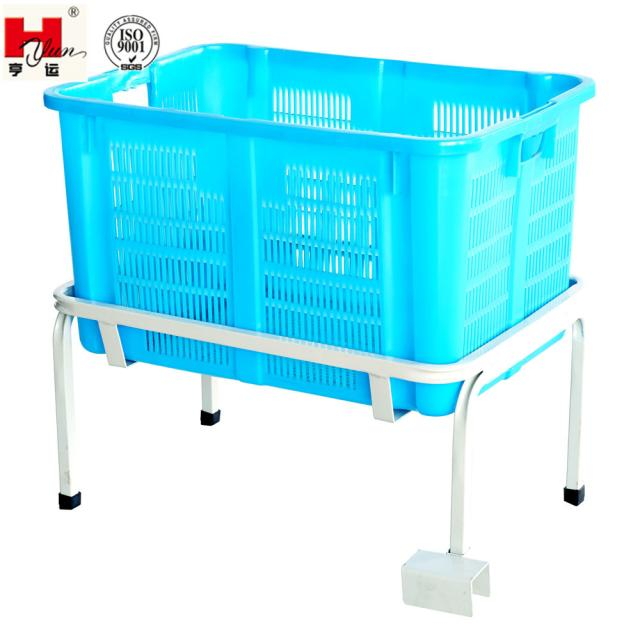basket: (23, 26, 597, 376), (115, 326, 375, 405)
